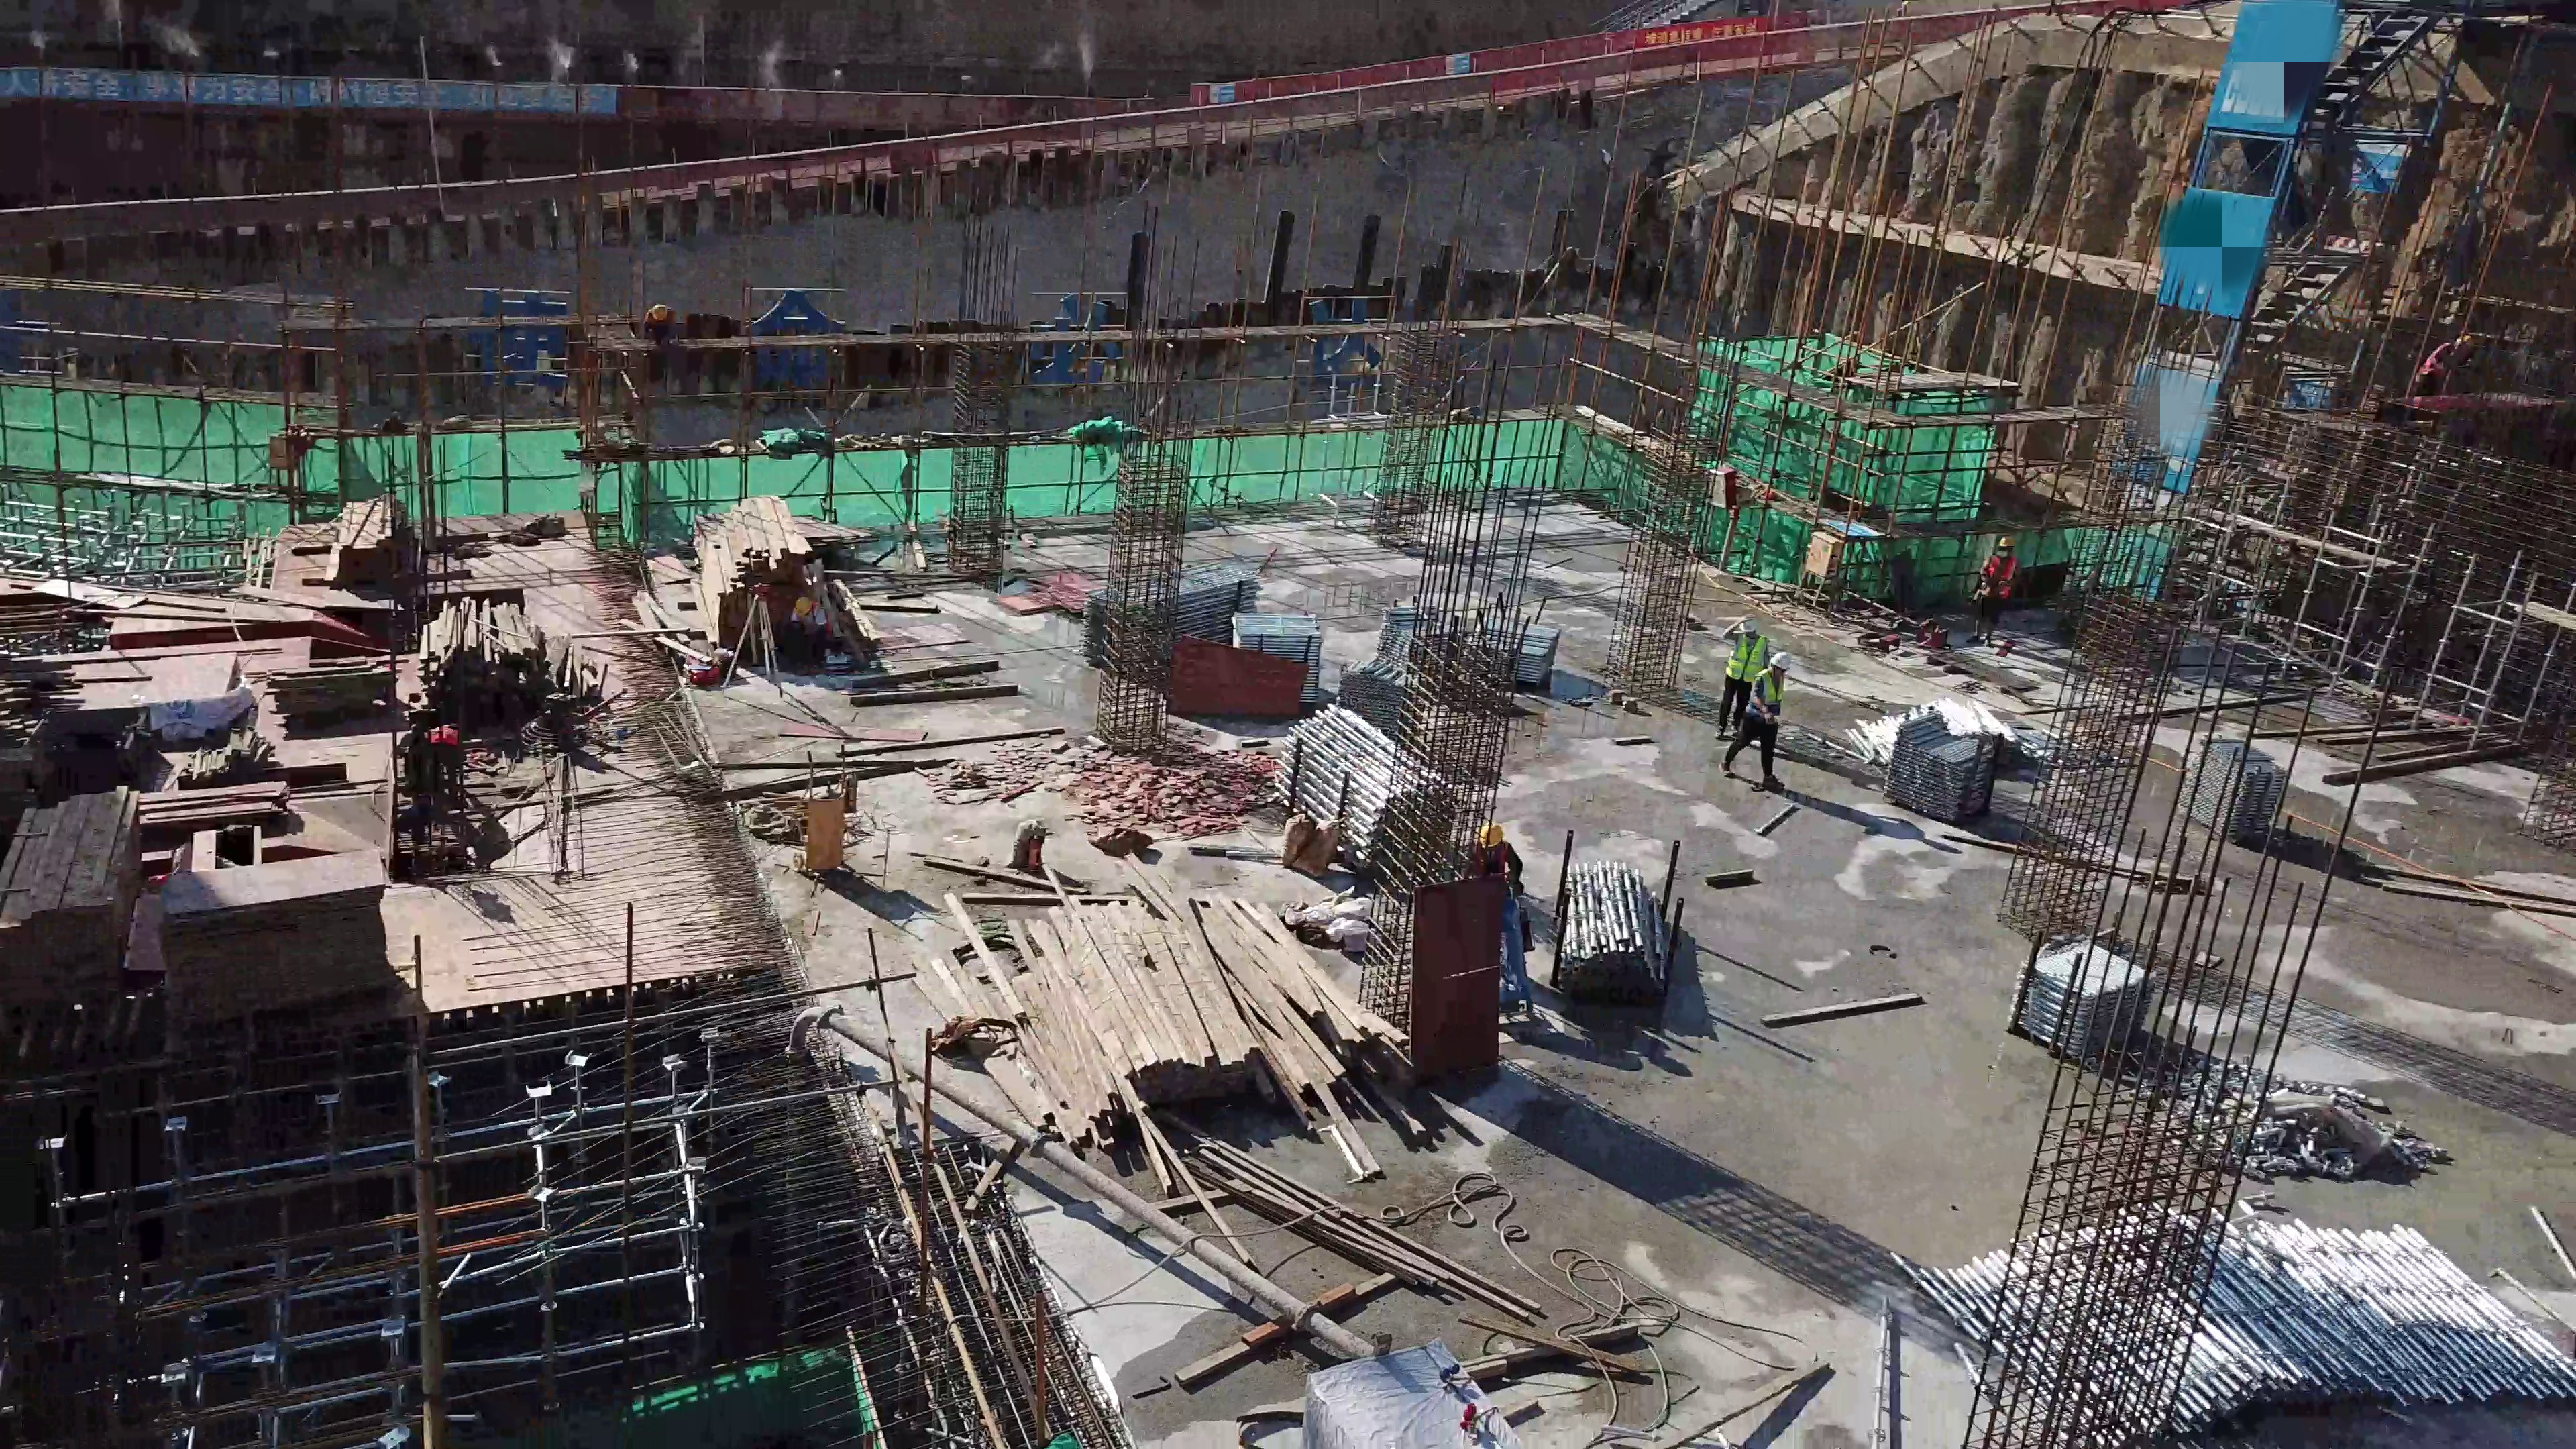board: (159, 845, 395, 997), (150, 653, 248, 723)
ebox: (1796, 531, 1837, 602), (270, 433, 290, 484)
fence: (28, 123, 1151, 244), (16, 68, 1151, 117), (1371, 17, 1799, 86), (1203, 72, 1362, 103)
helmet: (792, 595, 815, 617), (1480, 824, 1501, 847), (2457, 333, 2486, 347), (651, 303, 669, 321), (1768, 652, 1789, 669), (1740, 615, 1756, 631), (1999, 533, 2010, 544)
hopper: (39, 708, 142, 779)
person: (1719, 647, 1786, 788), (1717, 606, 1768, 735), (409, 722, 460, 820), (1464, 822, 1527, 894), (1973, 537, 2011, 640), (2413, 333, 2474, 399), (643, 303, 674, 366), (788, 594, 823, 650)
scaffold: (1908, 1200, 2576, 1432), (1275, 709, 1438, 866), (1095, 559, 1245, 669), (1560, 858, 1658, 994), (1383, 606, 1549, 678), (2029, 932, 2123, 1040), (1897, 712, 1984, 813), (1234, 612, 1326, 704), (2196, 737, 2260, 828)
slogan: (23, 72, 623, 121), (1634, 27, 1772, 49), (2346, 149, 2405, 197), (2287, 371, 2324, 413), (1833, 516, 1871, 538), (1446, 54, 1477, 74), (1210, 83, 1232, 103)
vest: (1746, 669, 1783, 721), (1727, 634, 1766, 683), (1984, 555, 2013, 598), (2422, 342, 2454, 376), (1470, 842, 1506, 873), (426, 725, 456, 746)
wood: (1012, 904, 1291, 1108), (1, 789, 137, 947), (700, 504, 815, 651), (333, 500, 390, 576)
